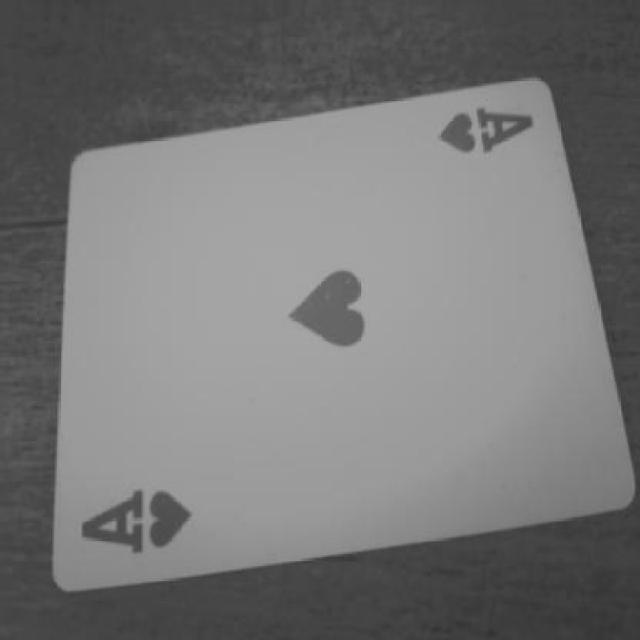AH: (74, 461, 218, 559), (419, 83, 553, 183)
